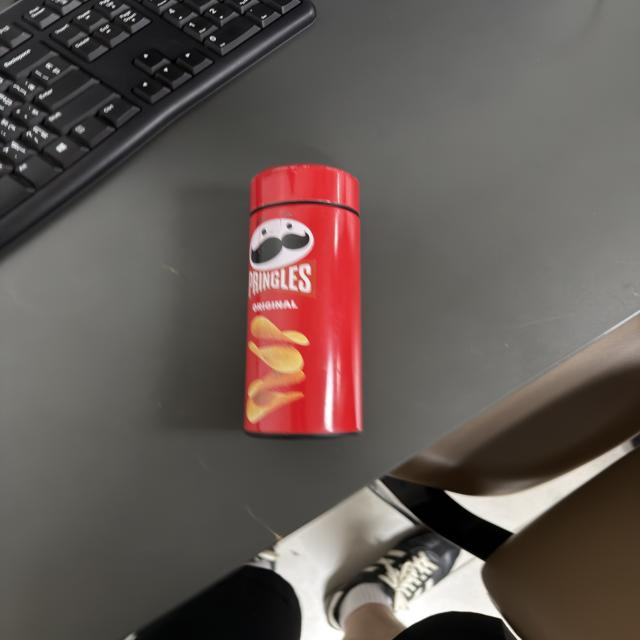water bottle: (240, 159, 366, 442)
